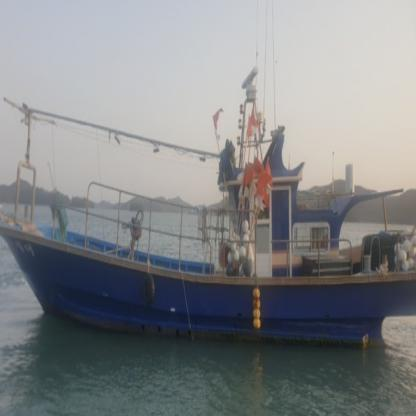Ship: (1, 62, 416, 357)
